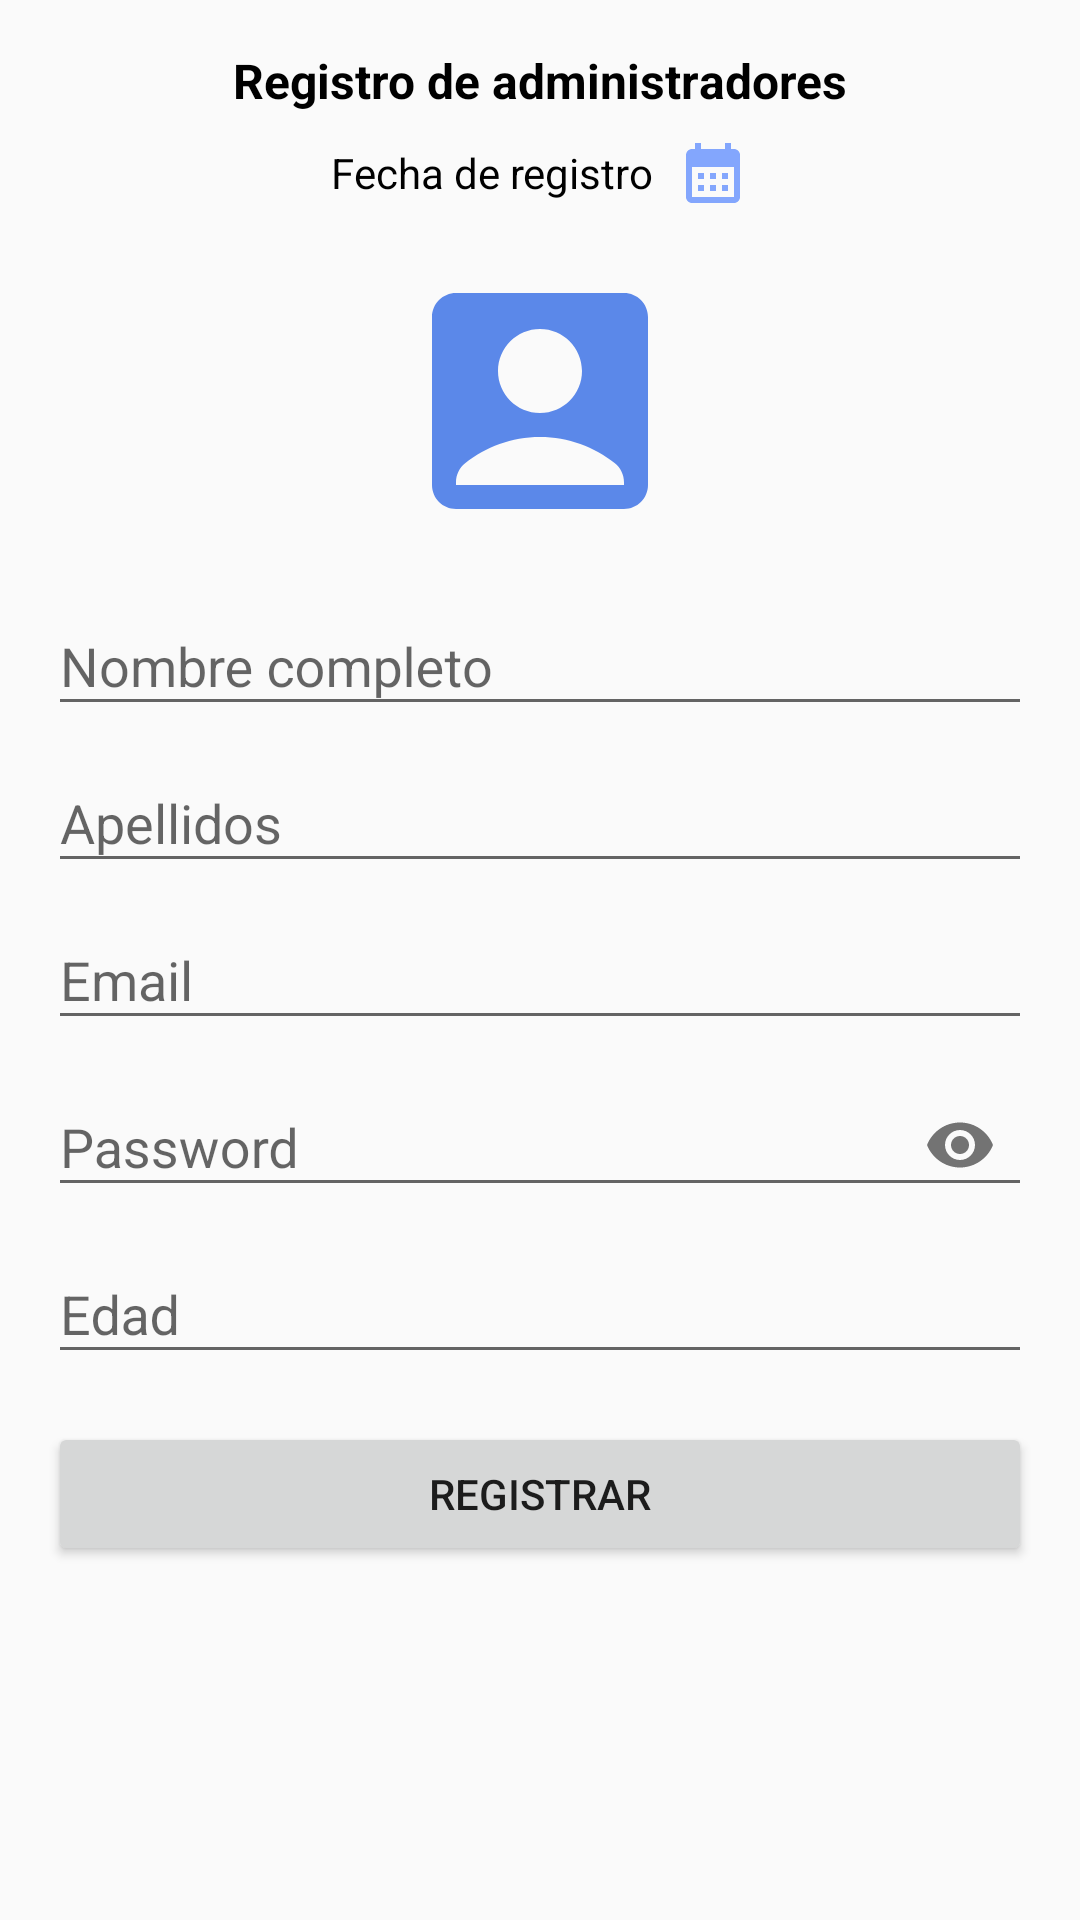

Where to tap for icons on this 1080w x 1920h app screen, as (x=x, y=y):
alendar month: (x=713, y=173)
